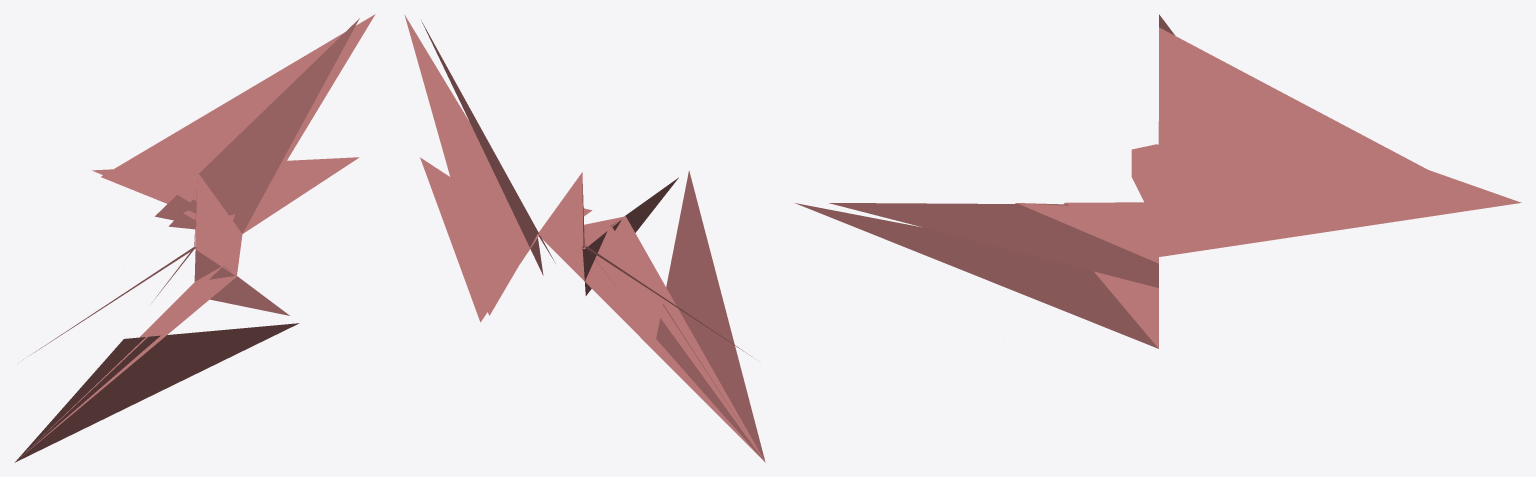
The model's file is technomancerpillar.dae.
3 views of the same model, side by side, from view 1: azimuth 30°, elevation 25°; view 2: azimuth 150°, elevation 25°; view 3: azimuth 270°, elevation 25° (orthographic). The views are drawn at different scales.
Bounding box in the file's own units: 11.22 × 11.22 × 10.7.
